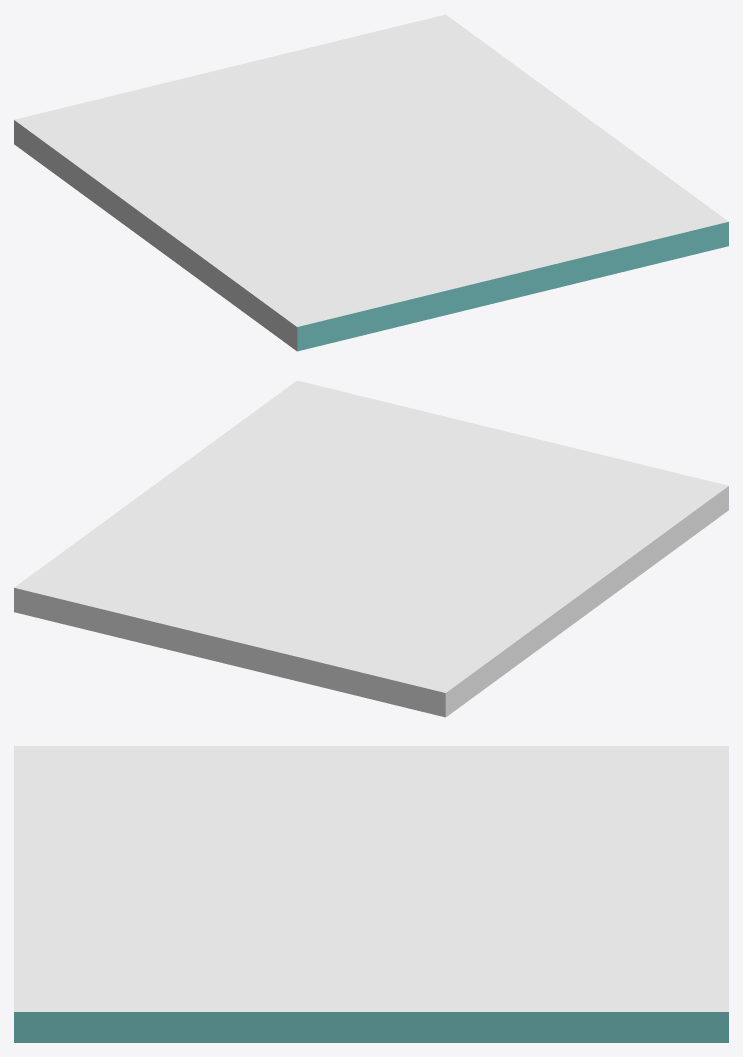
3 renders of one model, top to bottom at view 1: azimuth 30°, elevation 25°; view 2: azimuth 150°, elevation 25°; view 3: azimuth 270°, elevation 25°, orthographic. The views are drawn at different scales.
Parts seen in each view (by area): view 1: super hero poster; view 2: super hero poster; view 3: super hero poster.
Boxes of the visible parts, x1=… form: super hero poster: x1=14, y1=14, x2=728, y2=351; super hero poster: x1=14, y1=380, x2=728, y2=717; super hero poster: x1=14, y1=746, x2=728, y2=1042.
Size of the model in its own units: 87.87 by 4.75 by 99.81.
